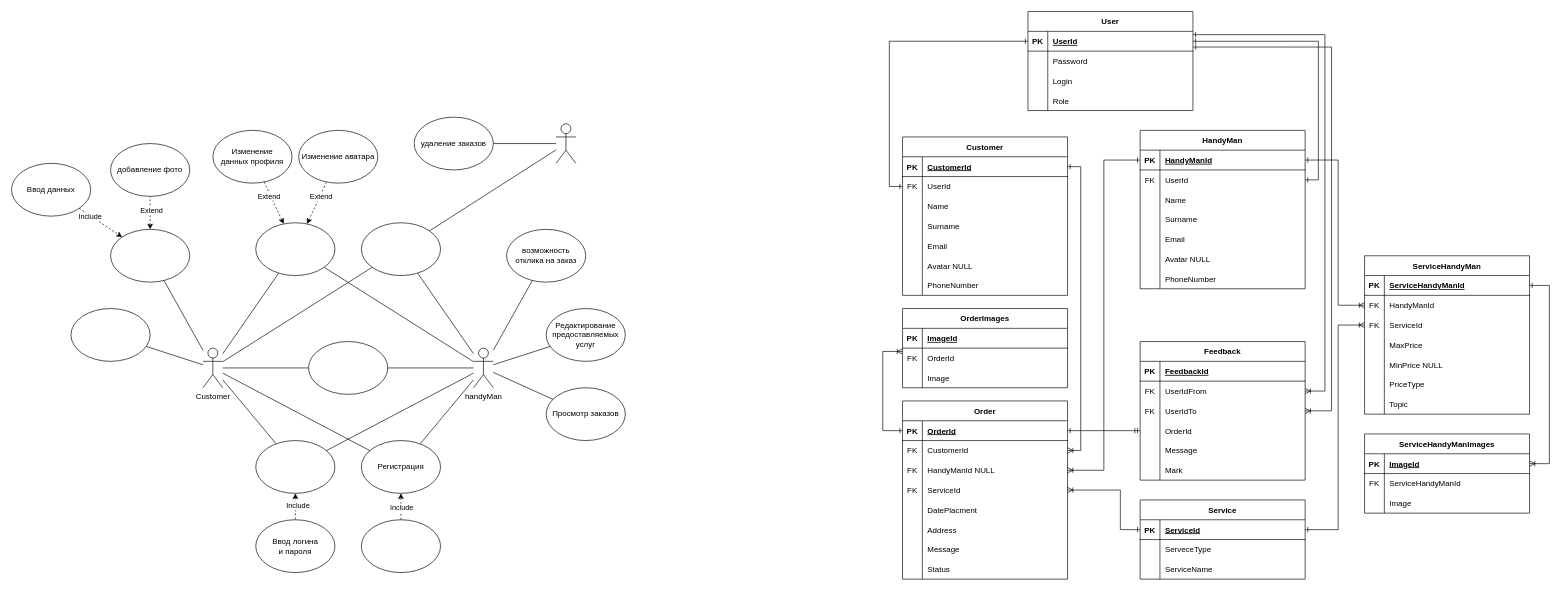
This 1567x591 diagram has some shape labels left out. The shapes that lost their labels are listed below. From the top down, each one's centre as x and y in pixels, then its label:
At point 565,143: "Admin".
At point 150,255: "Добавление заказа".
At point 295,249: "Редактирование профиля".
At point 401,249: "просмтр профиля".
At point 110,334: "Принятие отклика".
At point 348,367: "возможность оценки".
At point 295,466: "Авторизация".
At point 401,546: "Ввод данных пользователя".
